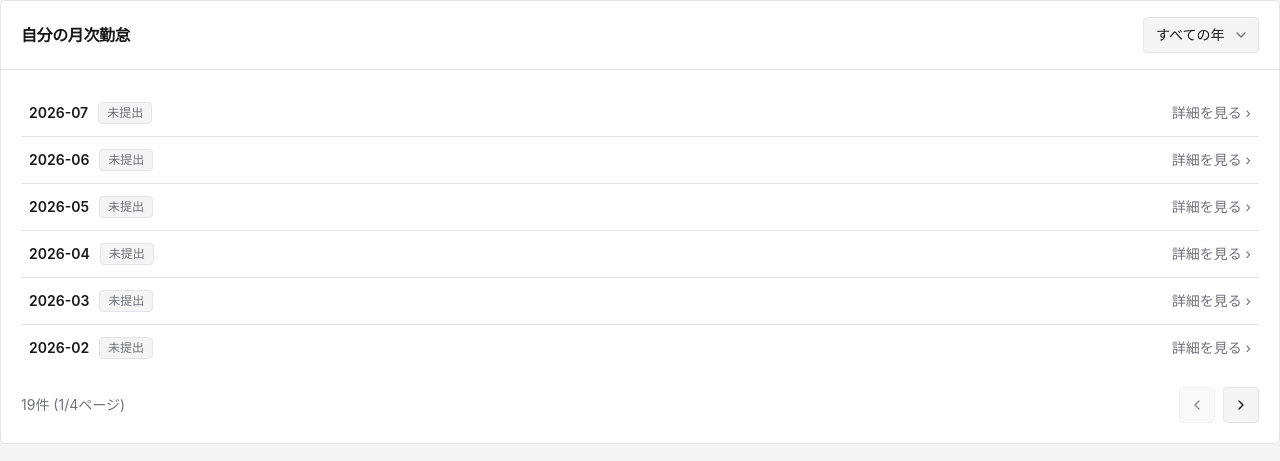
it: AttendanceMonthsPage › switches from all employment months to the selected year
The width and height of the screenshot is (1280, 461).
Expected: the text "2026-07" is shown, [29,103,88,123]
Select "2025年" in the dropdown named "表示する年" at point(1201, 35), box [1143,17,1259,53]
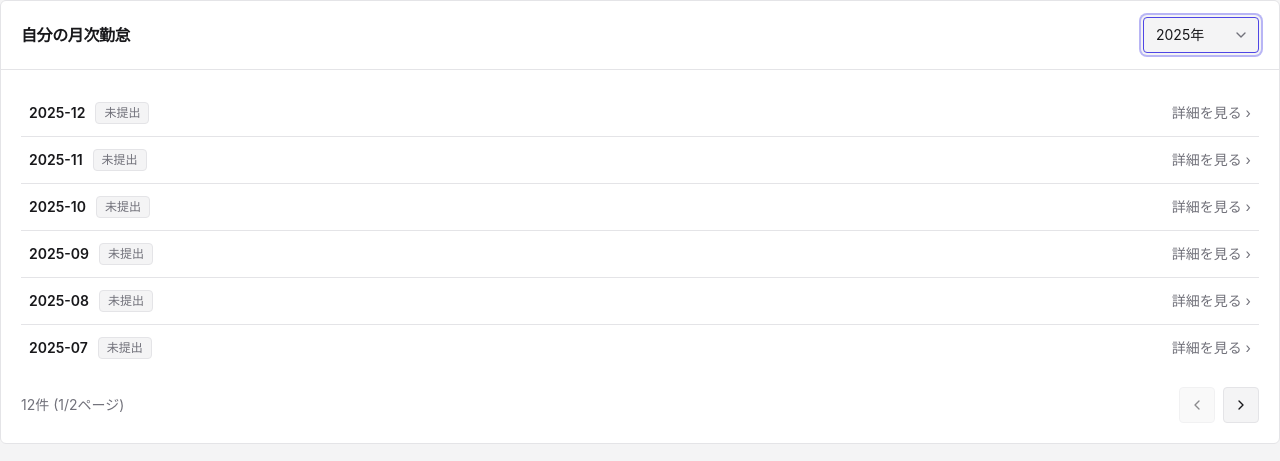
Expected: the text "2025-12" is shown, [29,103,85,123]
Expected: the link "2026-07" is gone
